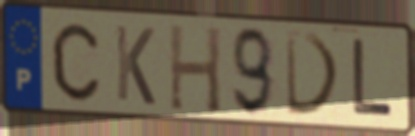9: (230, 24, 278, 120)
C: (49, 20, 102, 104)
D: (283, 29, 344, 119)
H: (167, 21, 224, 117)
K: (113, 22, 158, 109)
L: (351, 36, 396, 121)
